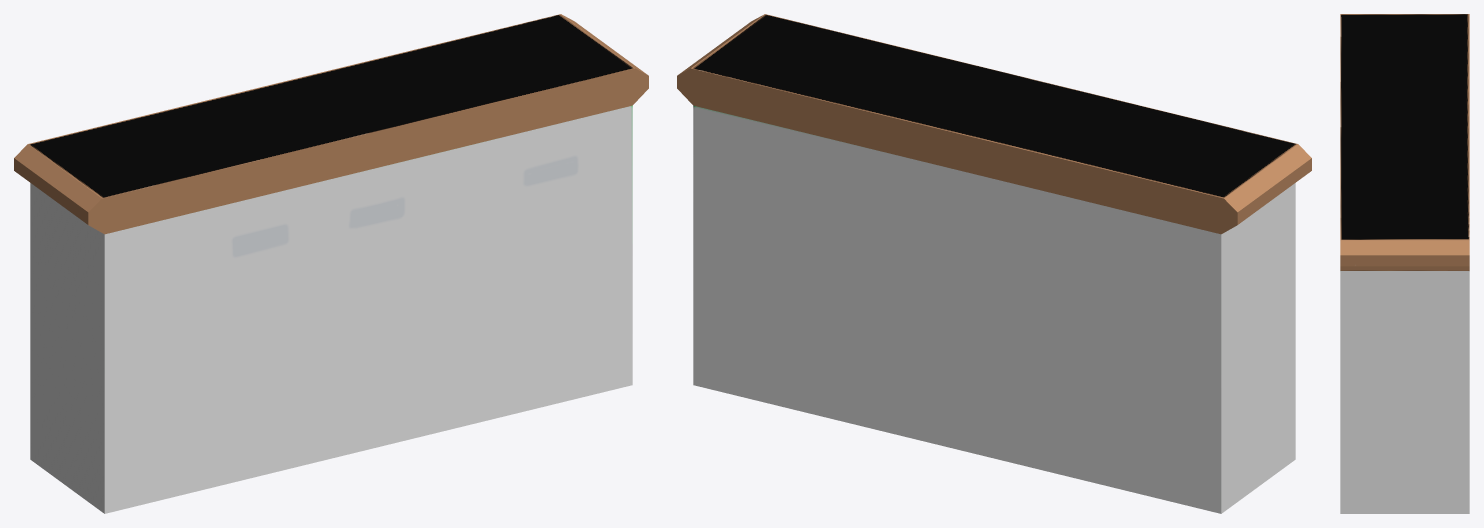
The model's file is ApoyoUtensilios.fbx.
The picture shows the model from 3 angles, left to right: view 1: azimuth 30°, elevation 25°; view 2: azimuth 150°, elevation 25°; view 3: azimuth 270°, elevation 25°; orthographic projection. The views are drawn at different scales.
Visible parts, largest first — view 1: ApoyoUtensilios(mapeado); view 2: ApoyoUtensilios(mapeado); view 3: ApoyoUtensilios(mapeado).
Boxes of the visible parts, x1=… form: ApoyoUtensilios(mapeado): x1=14, y1=14, x2=648, y2=513; ApoyoUtensilios(mapeado): x1=677, y1=14, x2=1311, y2=513; ApoyoUtensilios(mapeado): x1=1340, y1=14, x2=1469, y2=513.
Size of the model in its own units: 795 by 428 by 183.
